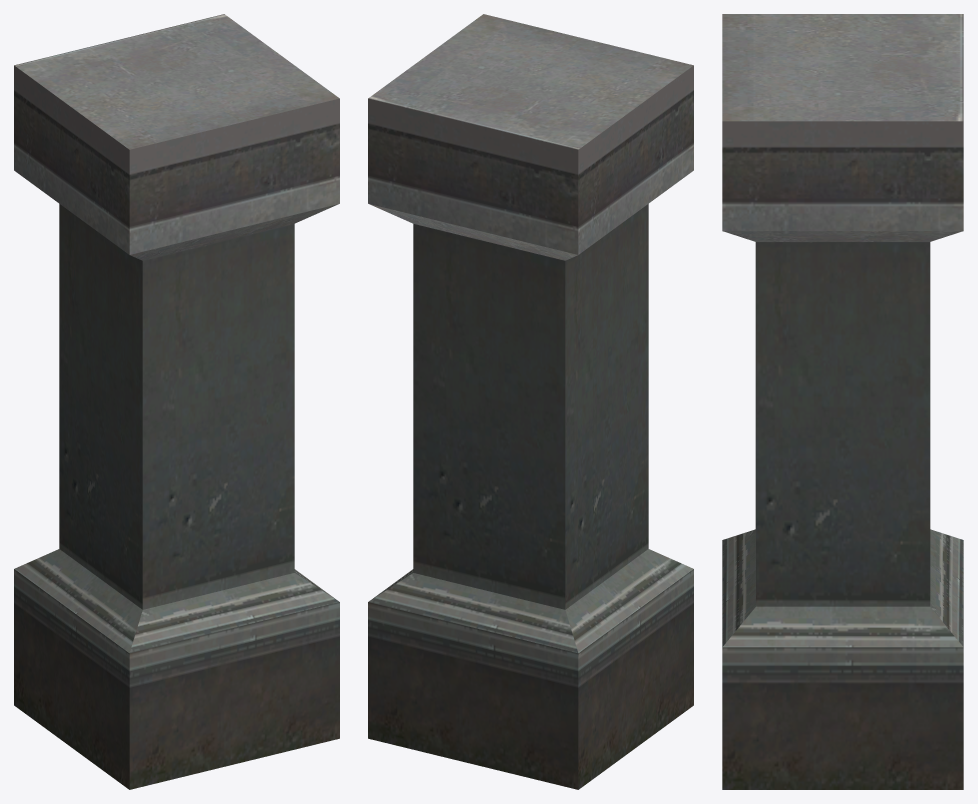
Rendered from Cover_Qiang10.glb.
The picture shows the model from 3 angles, left to right: view 1: azimuth 30°, elevation 25°; view 2: azimuth 150°, elevation 25°; view 3: azimuth 270°, elevation 25°; orthographic projection. The views are drawn at different scales.
Parts seen in each view (by area): view 1: xiutz_qiang10; view 2: xiutz_qiang10; view 3: xiutz_qiang10.
Boxes of the visible parts, <box> form: xiutz_qiang10: <box>14,14,339,789</box>; xiutz_qiang10: <box>368,14,693,789</box>; xiutz_qiang10: <box>722,14,963,789</box>.
Size of the model in its own units: 1.43 by 4.15 by 1.36.
1 material, 1 textured.
